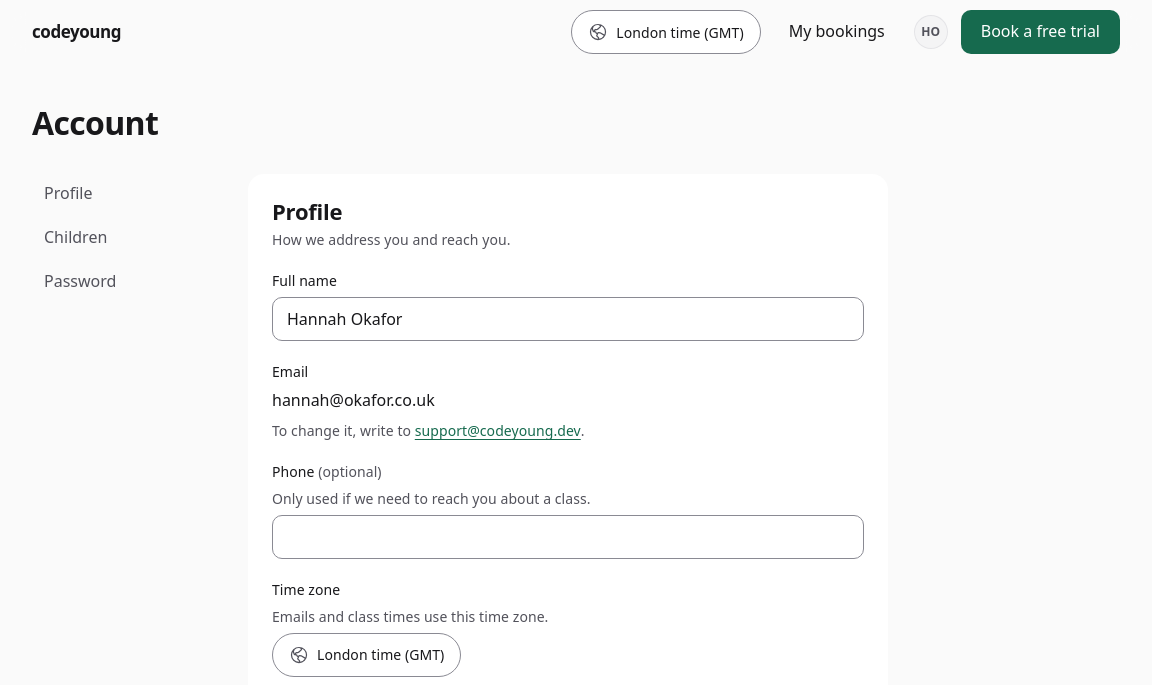
Test: profile › checks the phone format before sending
Type "call me" into the field labelled "Phone (optional)" at (568, 537), box [272, 515, 864, 559]
(page scrolled)
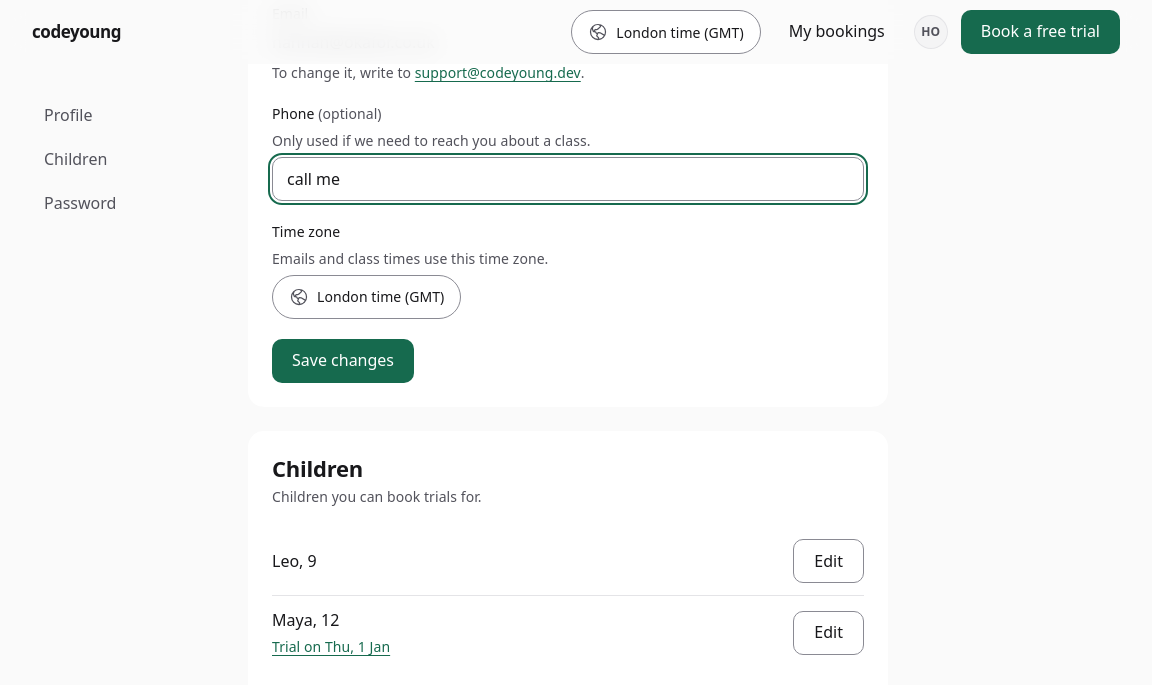
Click the button "Save changes" at (343, 361), box [272, 339, 414, 383]
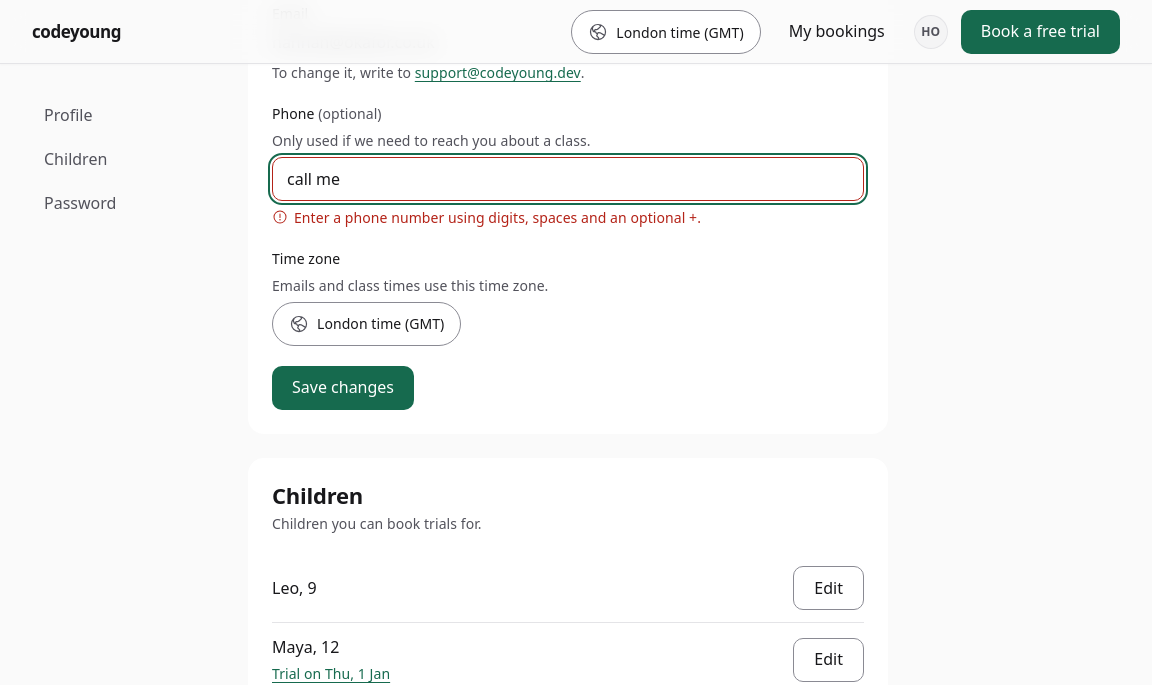
Expected: the text "Enter a phone number using digits, spaces and an optional +." is shown, [294, 207, 701, 228]
